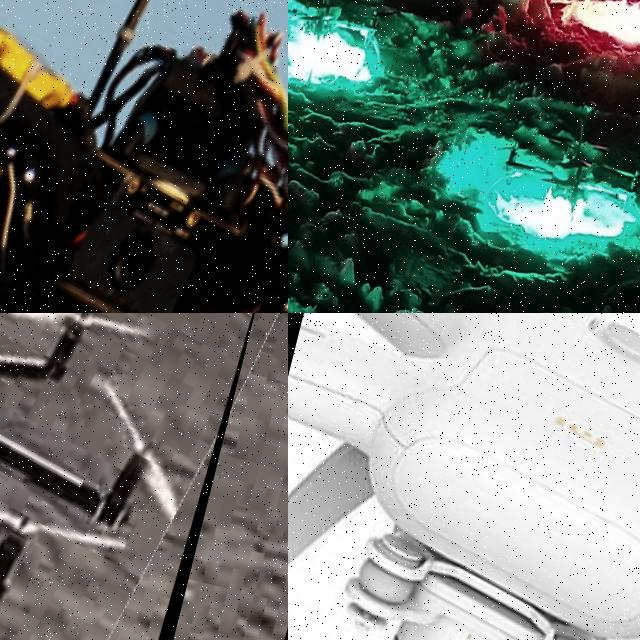drone: (288, 313, 640, 640), (0, 0, 288, 313), (0, 313, 272, 640)
